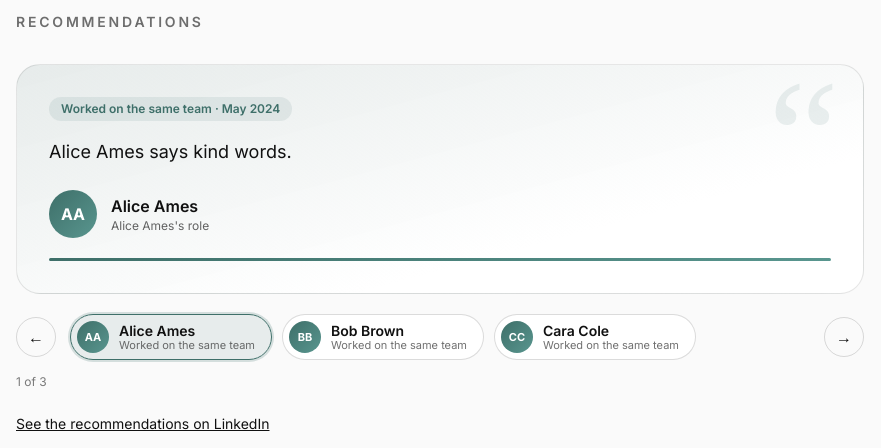
Test: Recommendations › stops autoplaying for good after the visitor interacts
Click the tab "CC Cara Cole Worked on the same team": (595, 337) [494,314,696,360]
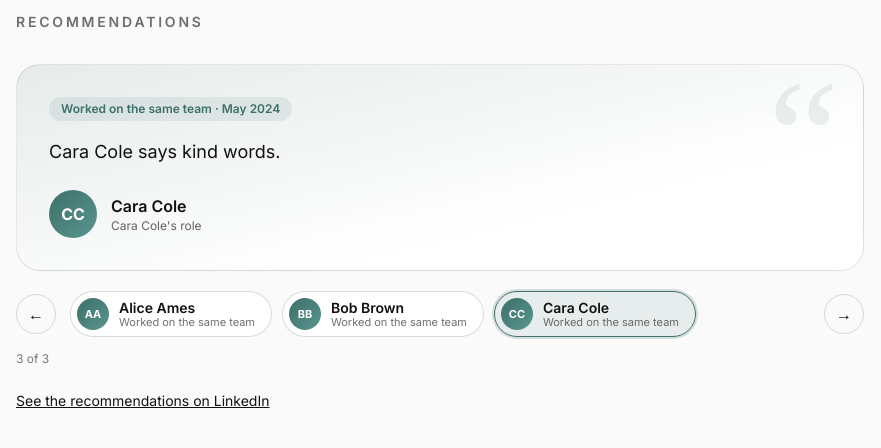
Result: the element with test id "autoplay-progress" is gone
